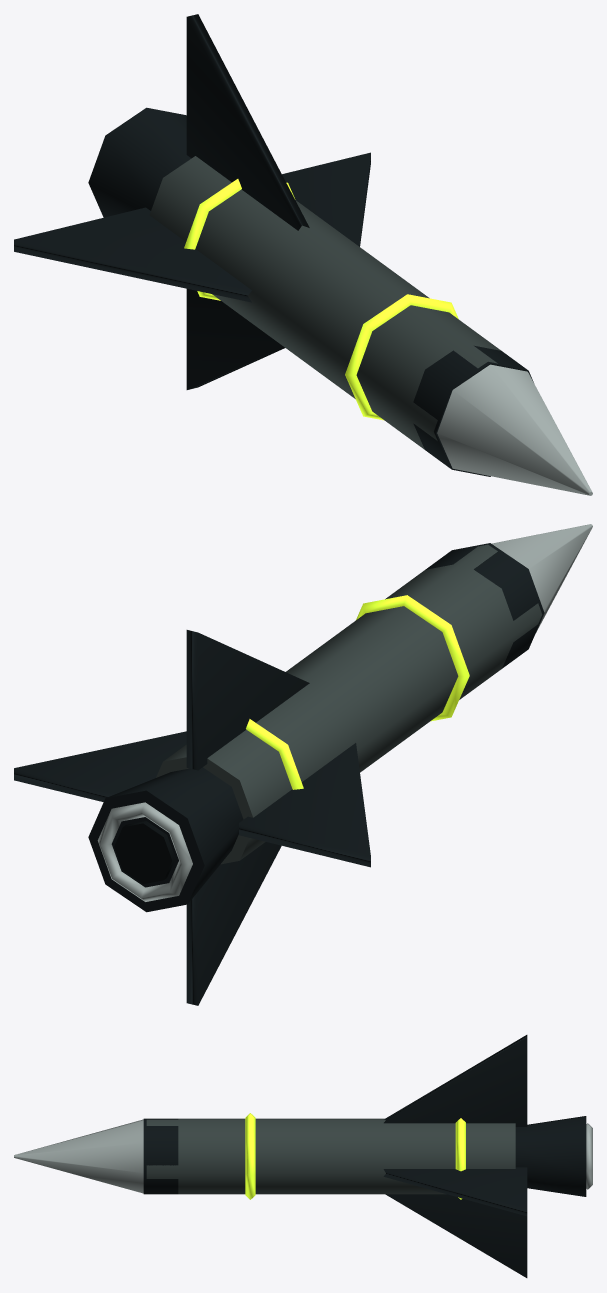
File: micro-missile-lod3.glb
The picture shows the model from 3 angles, top to bottom: view 1: azimuth 30°, elevation 25°; view 2: azimuth 150°, elevation 25°; view 3: azimuth 270°, elevation 25°; orthographic projection. The views are drawn at different scales.
Visible parts, largest first — view 1: fuselage__Cerakote_graphite_armor, control-fins__Recessed_carbon_mechanism, nose__Machined_titanium, nozzle__Recessed_carbon_mechanism, nose__Recessed_carbon_mechanism, fuselage-bands__Velocity_chartreuse_identification; view 2: fuselage__Cerakote_graphite_armor, control-fins__Recessed_carbon_mechanism, nozzle__Recessed_carbon_mechanism, nose__Machined_titanium, nozzle__Machined_titanium, nose__Recessed_carbon_mechanism, fuselage-bands__Velocity_chartreuse_identification, nozzle__Vibration_isolator; view 3: fuselage__Cerakote_graphite_armor, control-fins__Recessed_carbon_mechanism, nose__Machined_titanium, nozzle__Recessed_carbon_mechanism, nose__Recessed_carbon_mechanism, fuselage-bands__Velocity_chartreuse_identification, nozzle__Machined_titanium.
Part boxes in pixels (x1,y1,x2,y2): fuselage__Cerakote_graphite_armor: (149, 156, 501, 449); control-fins__Recessed_carbon_mechanism: (14, 14, 370, 389); nose__Machined_titanium: (437, 364, 592, 495); nozzle__Recessed_carbon_mechanism: (88, 107, 191, 217); nose__Recessed_carbon_mechanism: (413, 345, 533, 476); fuselage-bands__Velocity_chartreuse_identification: (184, 179, 458, 420); fuselage__Cerakote_graphite_armor: (156, 544, 542, 864); control-fins__Recessed_carbon_mechanism: (14, 630, 370, 1005); nozzle__Recessed_carbon_mechanism: (88, 767, 243, 912); nose__Machined_titanium: (492, 524, 592, 633); nozzle__Machined_titanium: (97, 802, 192, 901); nose__Recessed_carbon_mechanism: (425, 543, 544, 668); fuselage-bands__Velocity_chartreuse_identification: (246, 595, 469, 789); nozzle__Vibration_isolator: (114, 821, 175, 884); fuselage__Cerakote_graphite_armor: (146, 1118, 515, 1194); control-fins__Recessed_carbon_mechanism: (383, 1035, 527, 1277); nose__Machined_titanium: (14, 1119, 143, 1193); nozzle__Recessed_carbon_mechanism: (515, 1116, 586, 1196); nose__Recessed_carbon_mechanism: (143, 1118, 178, 1194); fuselage-bands__Velocity_chartreuse_identification: (245, 1113, 465, 1199); nozzle__Machined_titanium: (586, 1123, 592, 1189).
Size of the model in its own units: 0.92 by 0.92 by 2.01.
